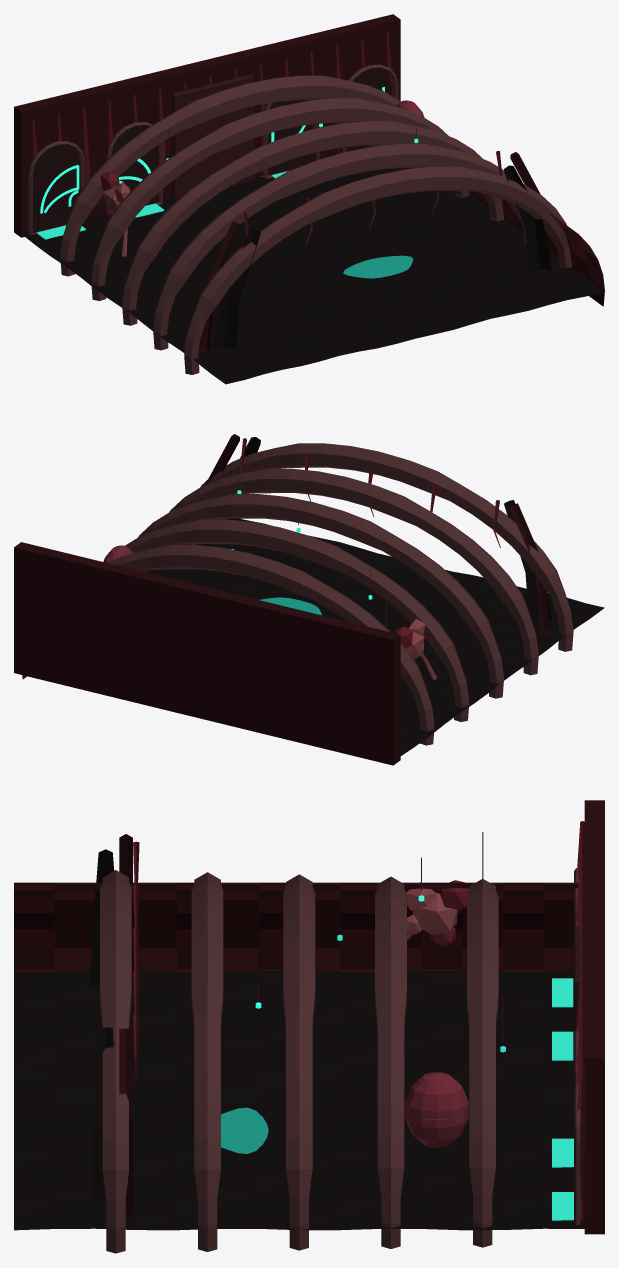
The model's file is hub.glb.
3 views of the same model, one above another, from view 1: azimuth 30°, elevation 25°; view 2: azimuth 150°, elevation 25°; view 3: azimuth 270°, elevation 25° (orthographic). The views are drawn at different scales.
Parts seen in each view (by area): view 1: hub_floor, hub_backwall, rib_1, rib_3, rib_2, rib_4, rib_5, hub_foreground, door_1, wall_5, hub_skin, door_2 (+4 smaller); view 2: hub_backwall, hub_floor, rib_2, rib_3, rib_1, rib_4, rib_5, hub_foreground, flesh_mass, water_pool; view 3: hub_floor, hub_skin, hub_backwall, rib_2, rib_3, rib_4, rib_5, rib_1, hub_foreground, breath_sac, flesh_mass, water_pool (+6 smaller).
Boxes of the visible parts, x1,y1,x2,y2 form: hub_floor: (22,168,604,384); hub_backwall: (14,14,400,237); rib_1: (184,166,571,374); rib_3: (122,121,503,325); rib_2: (153,144,526,350); rib_4: (91,98,469,300); rib_5: (60,75,400,276); hub_foreground: (200,151,551,356); door_1: (28,141,84,235); wall_5: (172,74,254,199); hub_skin: (376,86,604,306); door_2: (107,122,163,215); hub_backwall: (14,542,400,765); hub_floor: (146,518,604,755); rib_2: (160,468,538,675); rib_3: (138,494,503,698); rib_1: (187,443,573,651); rib_4: (125,519,469,721); rib_5: (107,545,434,745); hub_foreground: (200,434,551,633); flesh_mass: (395,619,436,679); water_pool: (259,597,321,615); hub_floor: (14,970,584,1230); hub_skin: (14,882,579,971); hub_backwall: (576,800,604,1234); rib_2: (191,872,223,1251); rib_3: (283,874,315,1250); rib_4: (375,876,406,1248); rib_5: (467,878,498,1247); rib_1: (100,870,131,1253); hub_foreground: (90,834,139,1218); breath_sac: (405,1072,468,1147); flesh_mass: (406,880,469,946); water_pool: (221,1107,268,1153).
Bounding box in the file's own units: 30.79 × 11.47 × 29.
